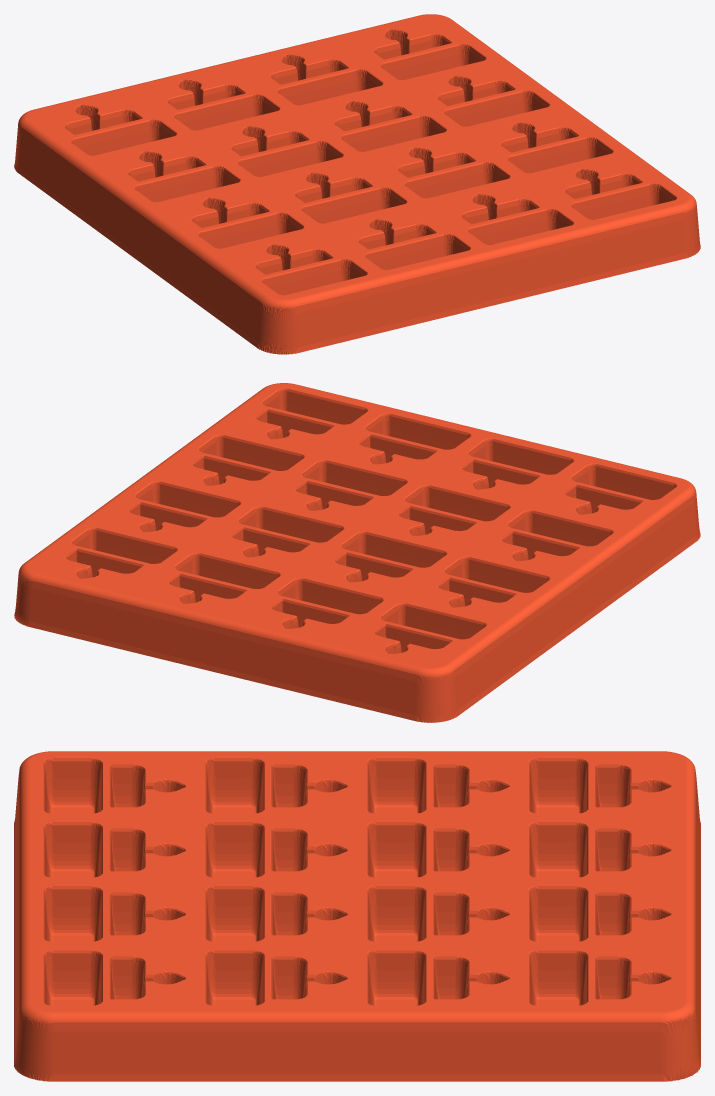
Rendered from mold.glb.
3 views of the same model, one above another, from view 1: azimuth 30°, elevation 25°; view 2: azimuth 150°, elevation 25°; view 3: azimuth 270°, elevation 25° (orthographic). The views are drawn at different scales.
Visible parts, largest first — view 1: geometry_0; view 2: geometry_0; view 3: geometry_0.
Part boxes in pixels (x1,y1,x2,y2): geometry_0: (14, 14, 700, 354); geometry_0: (14, 383, 700, 722); geometry_0: (14, 751, 700, 1081).
Bounding box in the file's own units: 0.1475 × 0.0159 × 0.1569.
